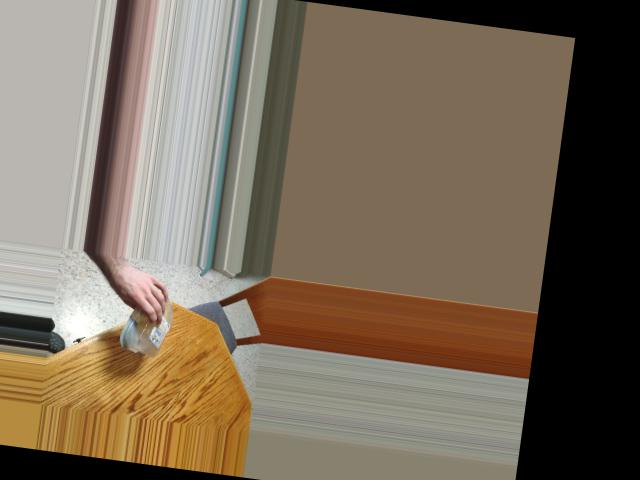cheese: (122, 293, 176, 354)
